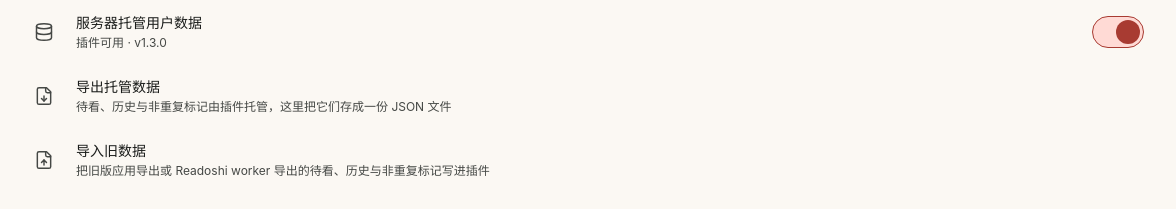
Test: detects the installed plugin automatically and restores local data with the switch
Later steps or results of the test are not shown.
Expected: the text "插件可用 · v1.3.0" is shown, [76,35,167,50]
Expected: the button "导出托管数据" is enabled, [12,64,1164,128]
Click the switch.
click(1118, 32)  # box [1092,16,1144,48]
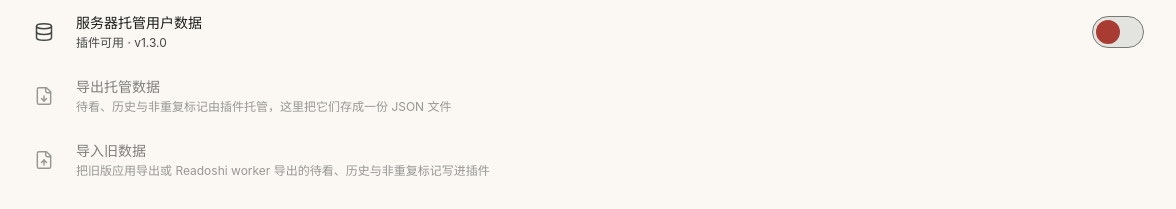
Now the switch is not checked, box [1092,16,1144,48]
